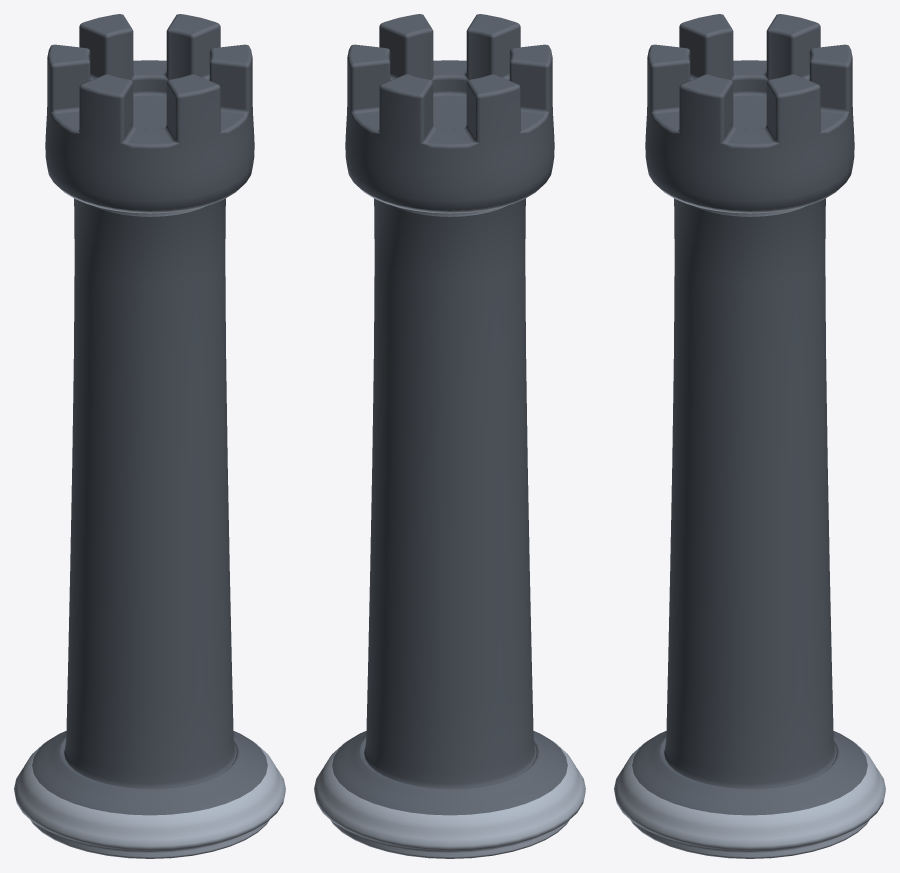
The model's file is column-rook.glb.
The picture shows the model from 3 angles, left to right: view 1: azimuth 30°, elevation 25°; view 2: azimuth 150°, elevation 25°; view 3: azimuth 270°, elevation 25°; orthographic projection.
Parts seen in each view (by area): view 1: column-rook-body; view 2: column-rook-body; view 3: column-rook-body.
Boxes of the visible parts, left/top/right/bottom form: column-rook-body: left=14, top=14, right=285, bottom=858; column-rook-body: left=314, top=14, right=585, bottom=858; column-rook-body: left=614, top=14, right=885, bottom=858.
Bounding box in the file's own units: 3.4 × 10.4 × 3.4.
